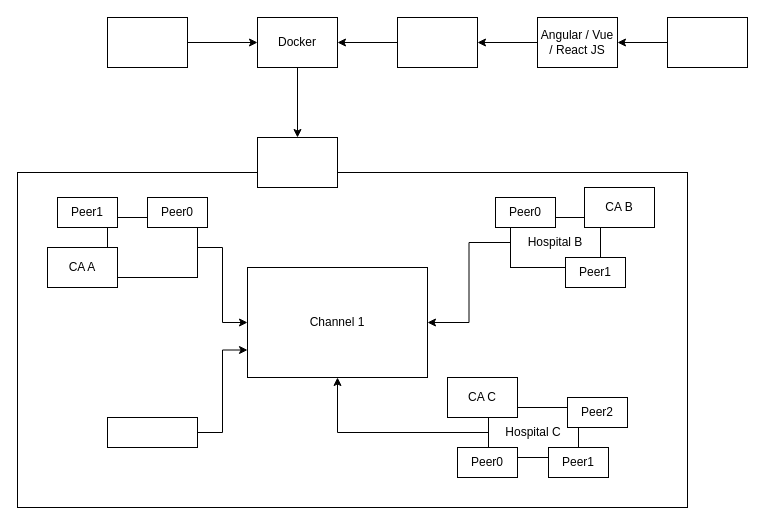
The diagram is 765 pixels wide and 525 high, and some of its shapes have lost their labels. Here are the shapes that lost their labels. From the top down, the centre of each, then its label:
At (x=147, y=42): "Blockchain Operator".
At (x=437, y=42): "Node JS".
At (x=707, y=42): "User".
At (x=297, y=162): "Hyperledger Fabric Network".
At (x=152, y=247): "Hospital A".
At (x=152, y=432): "Orderer".
